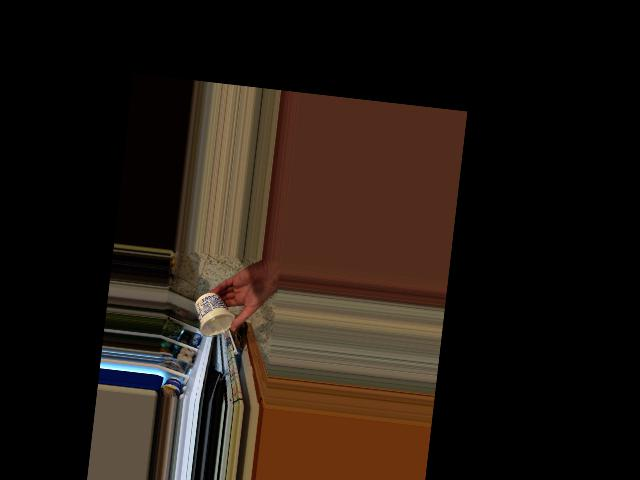cotage: (193, 294, 234, 340)
